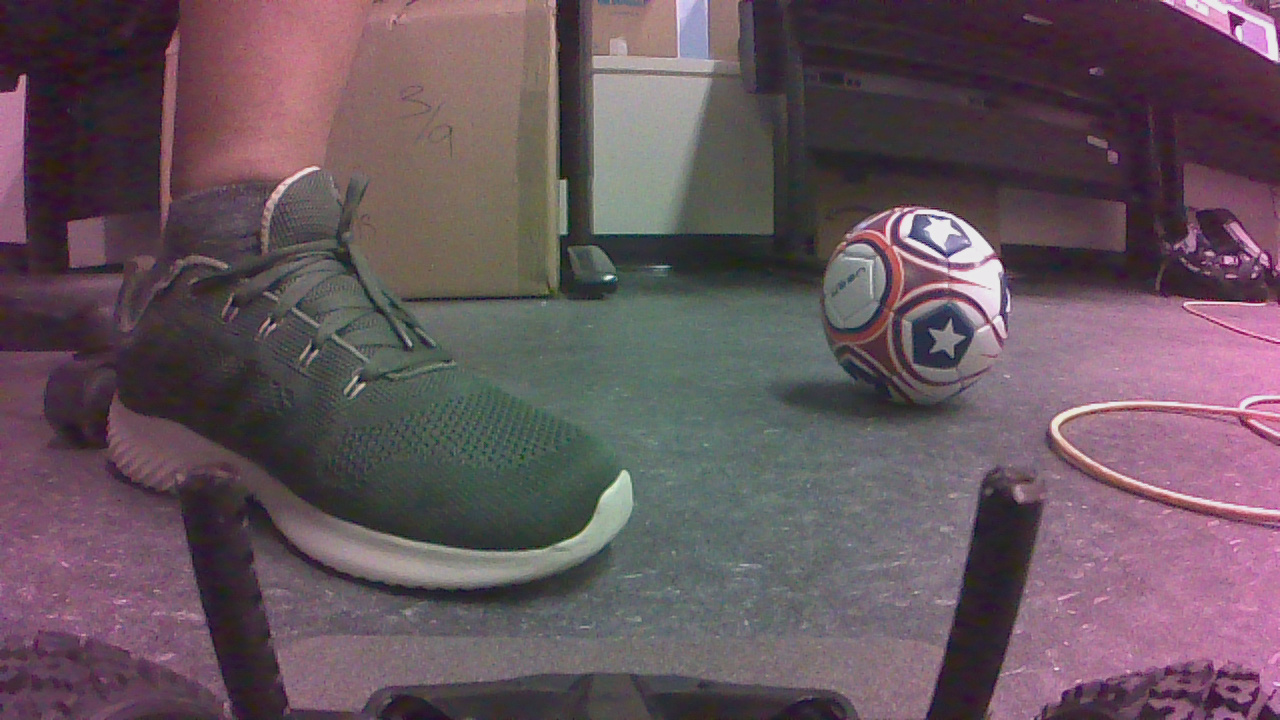ball: (819, 205, 1014, 416)
